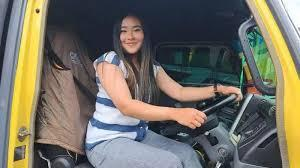Awake: (100, 9, 151, 59)
